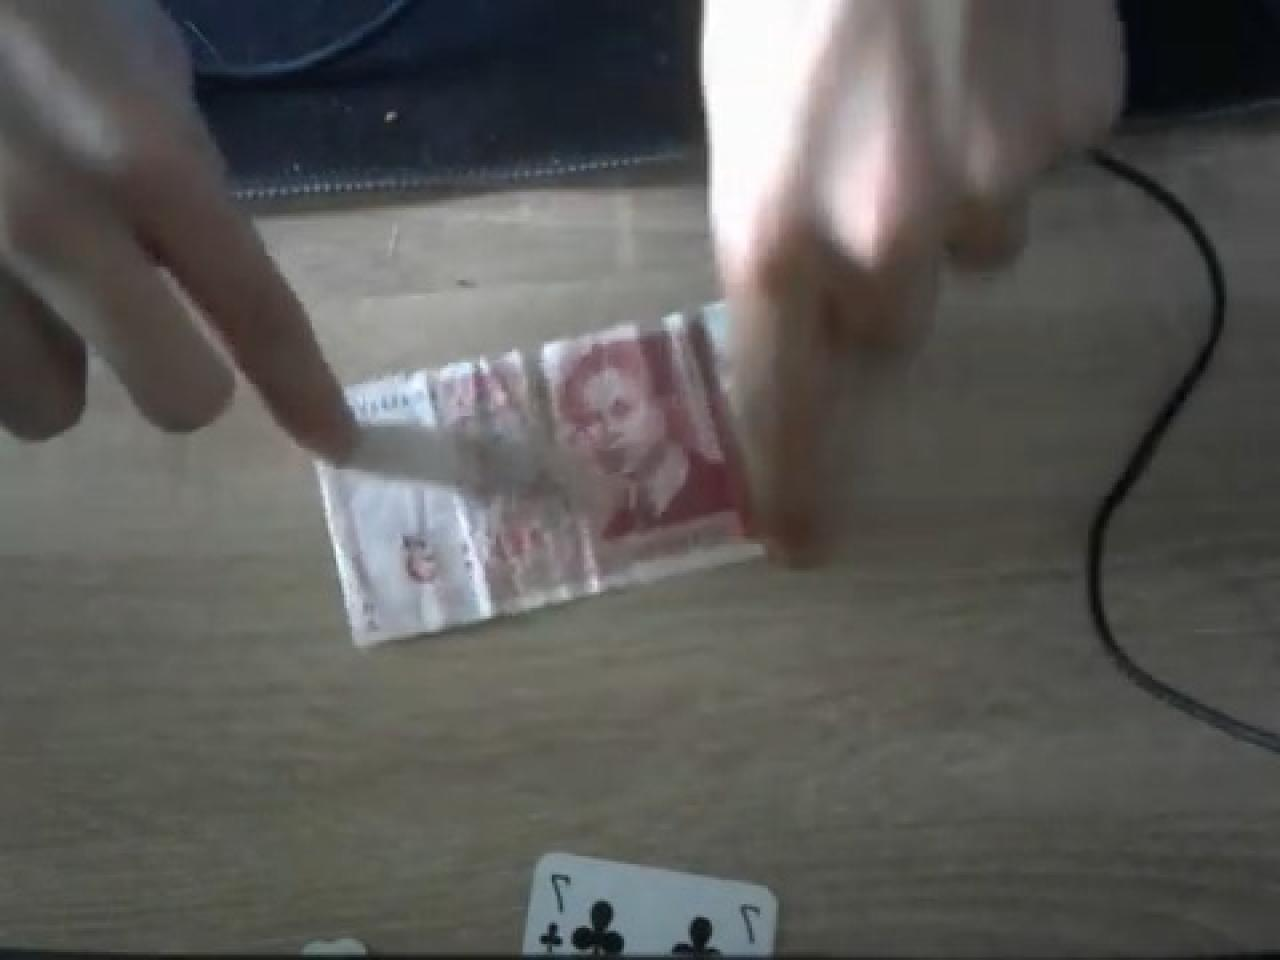5leva: (323, 310, 760, 645)
